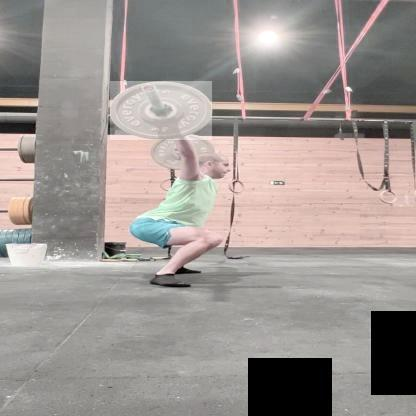barbell: (111, 82, 212, 141)
